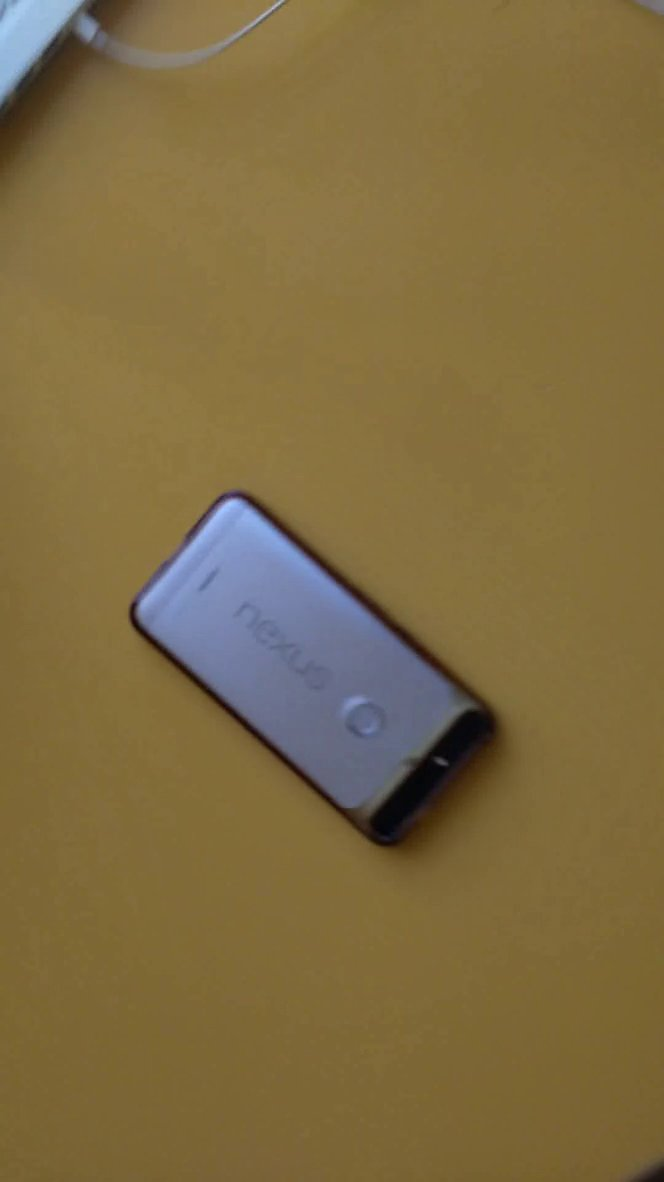phone: (119, 474, 532, 873)
